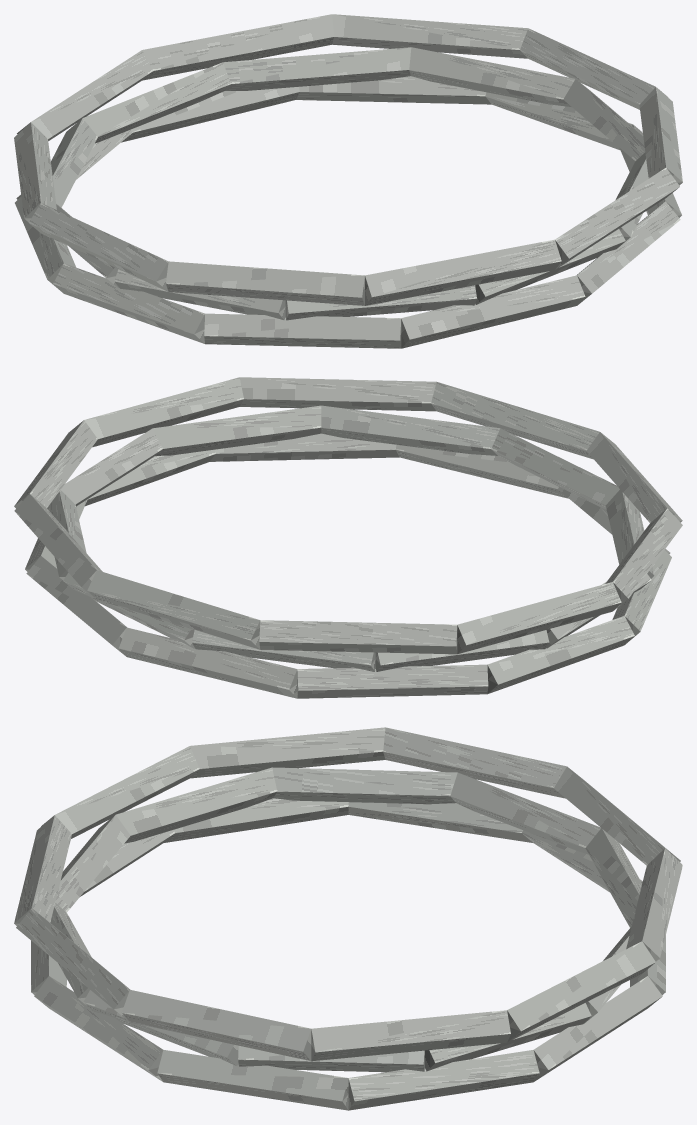
File: qt_wire.glb
3 renders of one model, top to bottom at view 1: azimuth 30°, elevation 25°; view 2: azimuth 150°, elevation 25°; view 3: azimuth 270°, elevation 25°, orthographic. The views are drawn at different scales.
Visible parts, largest first — view 1: block_coiled length2-0, block_coiled length2-9, block_coiled length0-3, block_coiled length2-5, block_coiled length2-4, block_coiled length1-6, block_coiled length0-2, block_coiled length1-7, block_coiled length0-4, block_coiled length1-5, block_coiled length2-1, block_coiled length2-6 (+17 smaller); view 2: block_coiled length2-3, block_coiled length2-8, block_coiled length0-6, block_coiled length1-0, block_coiled length0-7, block_coiled length2-4, block_coiled length1-9, block_coiled length2-2, block_coiled length2-9, block_coiled length2-7, block_coiled length0-5, block_coiled length1-1 (+18 smaller); view 3: block_coiled length2-6, block_coiled length2-1, block_coiled length2-7, block_coiled length0-9, block_coiled length0-0, block_coiled length1-3, block_coiled length2-2, block_coiled length1-2, block_coiled length2-5, block_coiled length1-4, block_coiled length2-0, block_coiled length0-8 (+18 smaller).
Part boxes in pixels (x1=…): block_coiled length2-0: x1=166, y1=261, x2=364, y2=305; block_coiled length2-9: x1=365, y1=239, x2=561, y2=305; block_coiled length0-3: x1=204, y1=313, x2=401, y2=348; block_coiled length2-5: x1=332, y1=14, x2=527, y2=58; block_coiled length2-4: x1=142, y1=14, x2=334, y2=80; block_coiled length1-6: x1=223, y1=47, x2=411, y2=90; block_coiled length0-2: x1=401, y1=275, x2=585, y2=348; block_coiled length1-7: x1=409, y1=47, x2=575, y2=106; block_coiled length0-4: x1=53, y1=263, x2=204, y2=343; block_coiled length1-5: x1=83, y1=62, x2=230, y2=143; block_coiled length2-1: x1=29, y1=203, x2=168, y2=291; block_coiled length2-6: x1=520, y1=28, x2=668, y2=109; block_coiled length2-3: x1=259, y1=620, x2=457, y2=654; block_coiled length2-8: x1=239, y1=377, x2=436, y2=411; block_coiled length0-6: x1=297, y1=664, x2=488, y2=698; block_coiled length1-0: x1=321, y1=405, x2=500, y2=455; block_coiled length0-7: x1=119, y1=627, x2=297, y2=698; block_coiled length2-4: x1=87, y1=570, x2=260, y2=649; block_coiled length1-9: x1=152, y1=405, x2=321, y2=455; block_coiled length2-2: x1=457, y1=582, x2=621, y2=654; block_coiled length2-9: x1=431, y1=382, x2=599, y2=459; block_coiled length2-7: x1=84, y1=377, x2=243, y2=447; block_coiled length0-5: x1=487, y1=616, x2=634, y2=694; block_coiled length1-1: x1=491, y1=428, x2=619, y2=509; block_coiled length2-6: x1=311, y1=1010, x2=510, y2=1061; block_coiled length2-1: x1=190, y1=727, x2=385, y2=778; block_coiled length2-7: x1=122, y1=989, x2=311, y2=1060; block_coiled length0-9: x1=348, y1=1050, x2=539, y2=1110; block_coiled length0-0: x1=157, y1=1050, x2=348, y2=1110; block_coiled length1-3: x1=272, y1=767, x2=457, y2=804; block_coiled length2-2: x1=383, y1=727, x2=566, y2=798; block_coiled length1-2: x1=116, y1=767, x2=277, y2=843; block_coiled length2-5: x1=507, y1=941, x2=655, y2=1042; block_coiled length1-4: x1=450, y1=772, x2=600, y2=854; block_coiled length2-0: x1=41, y1=746, x2=199, y2=838; block_coiled length0-8: x1=533, y1=976, x2=662, y2=1081.
Bounding box in the file's own units: 0.1671 × 0.0209 × 0.1494.
1 material, 1 textured.
